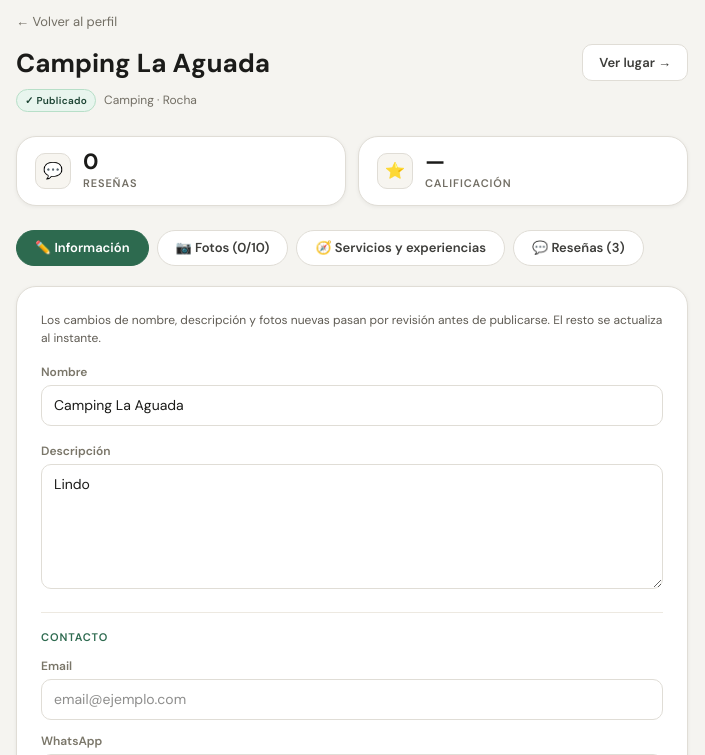
Panel del dueño › las reseñas se ven todas, de a tandas, con el total en la pestaña
Click the button "💬 Reseñas (3)".
click(578, 248)  # box [513,230,644,266]
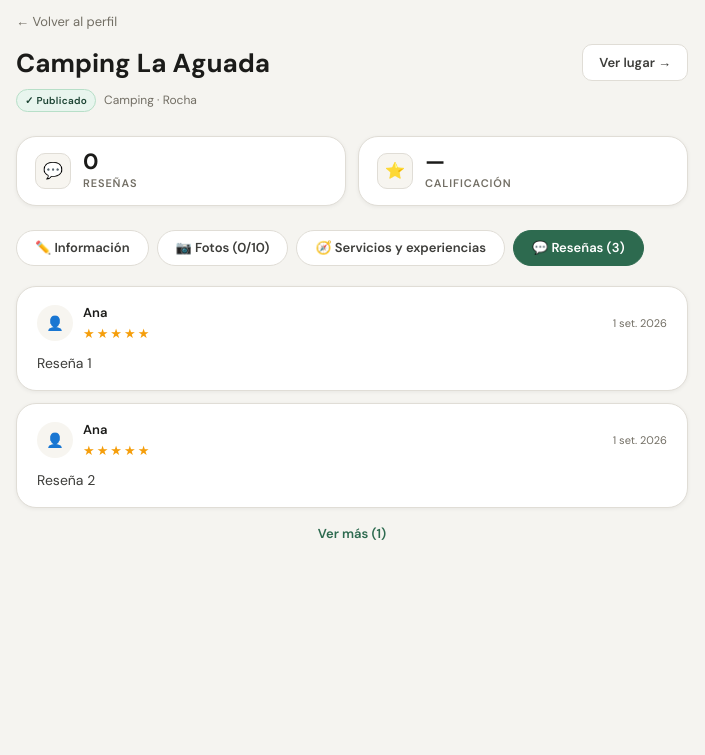
Click the button "Ver más (1)".
click(352, 534)  # box [314,520,390,548]
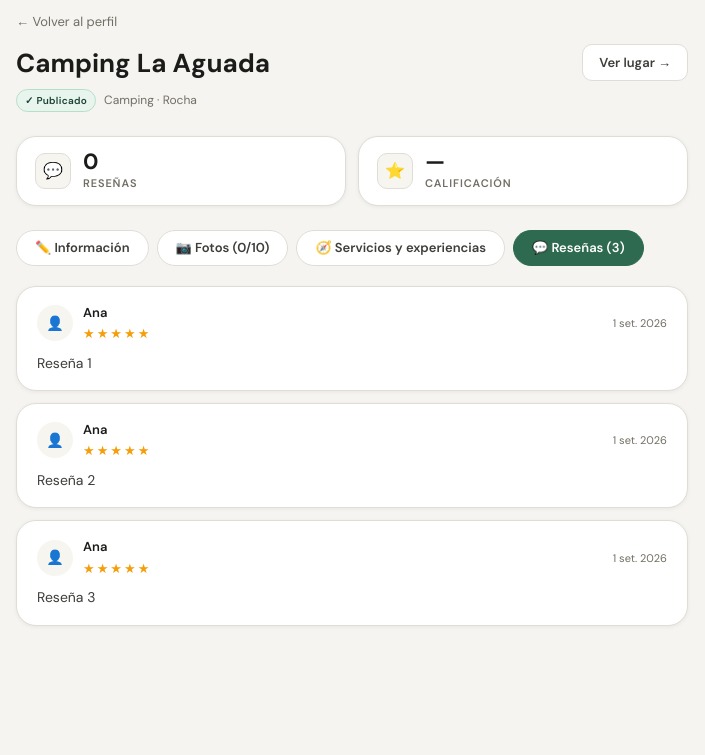
Expected: the text "Reseña 3" is shown, [37,588,96,606]
Expected: the button "Ver más" is gone
